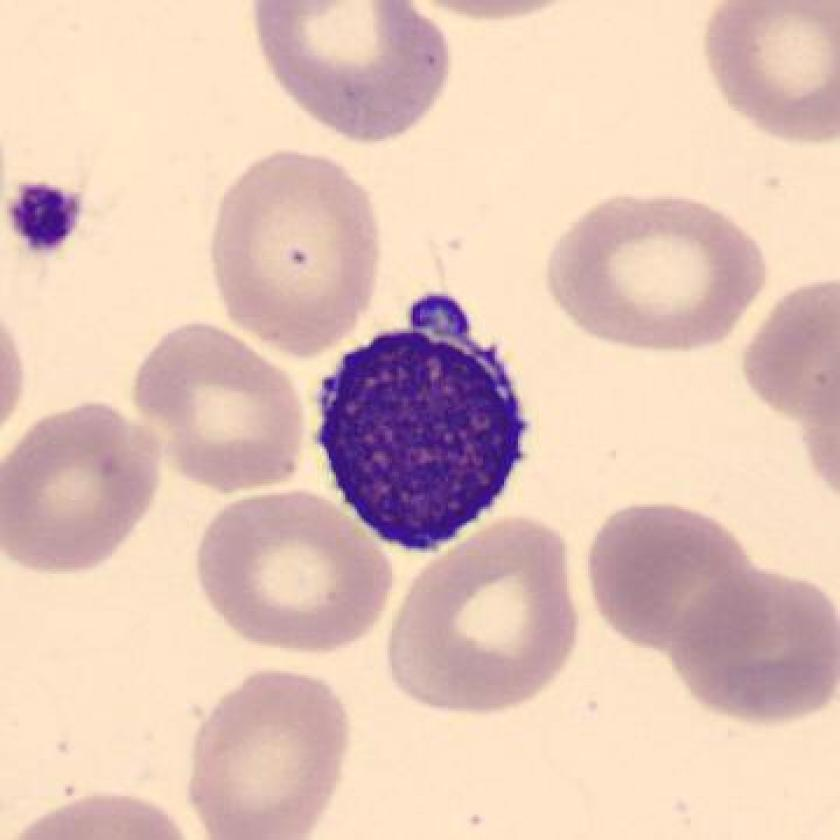lymphocyte: (300, 276, 547, 566)
